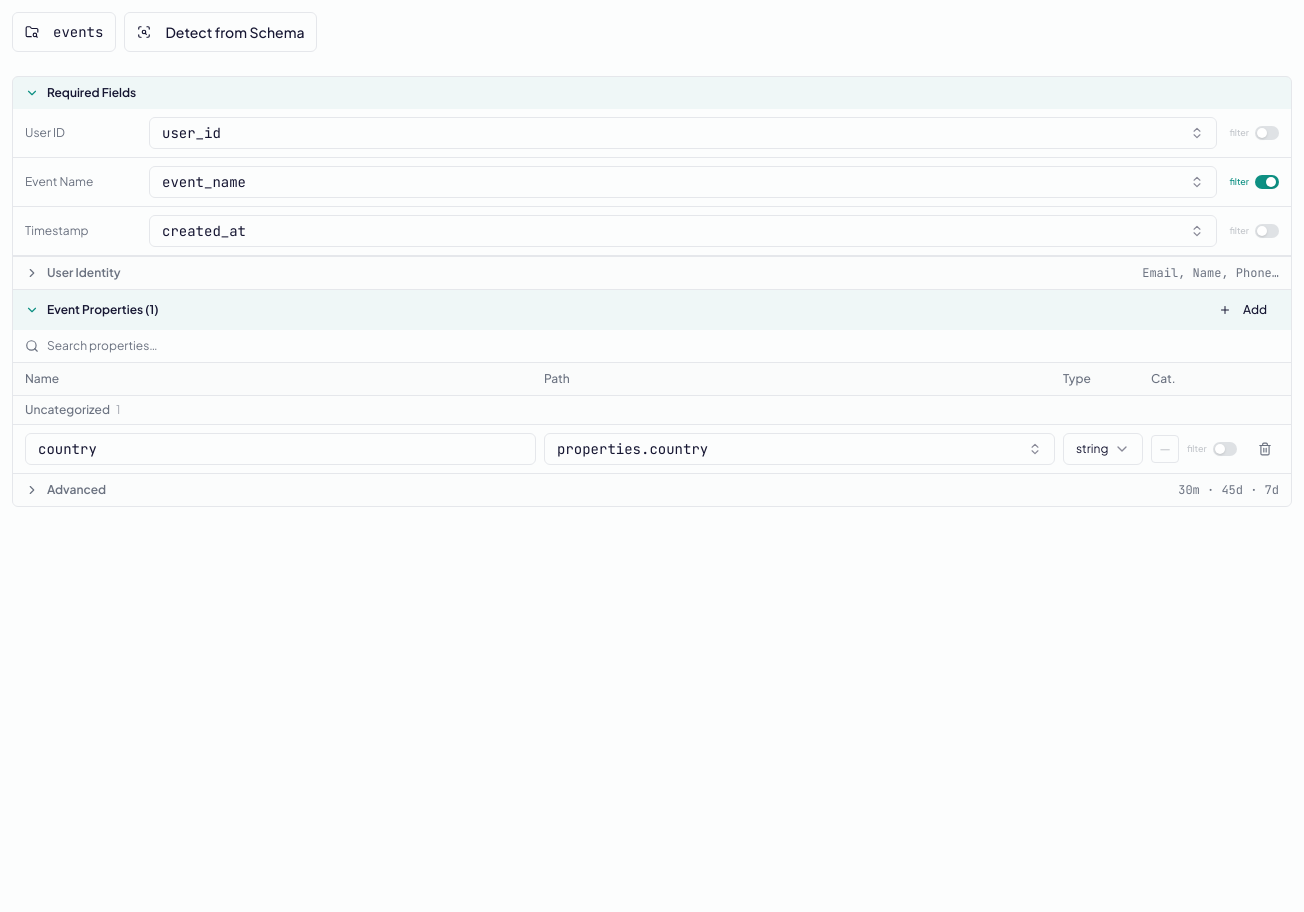
Test: SchemaConfigTab — User Identity section › shows all five optional field labels when identity section is expanded
Click the button "User Identity Email, Name, Phone…": (84, 272) [13,257,1291,289]
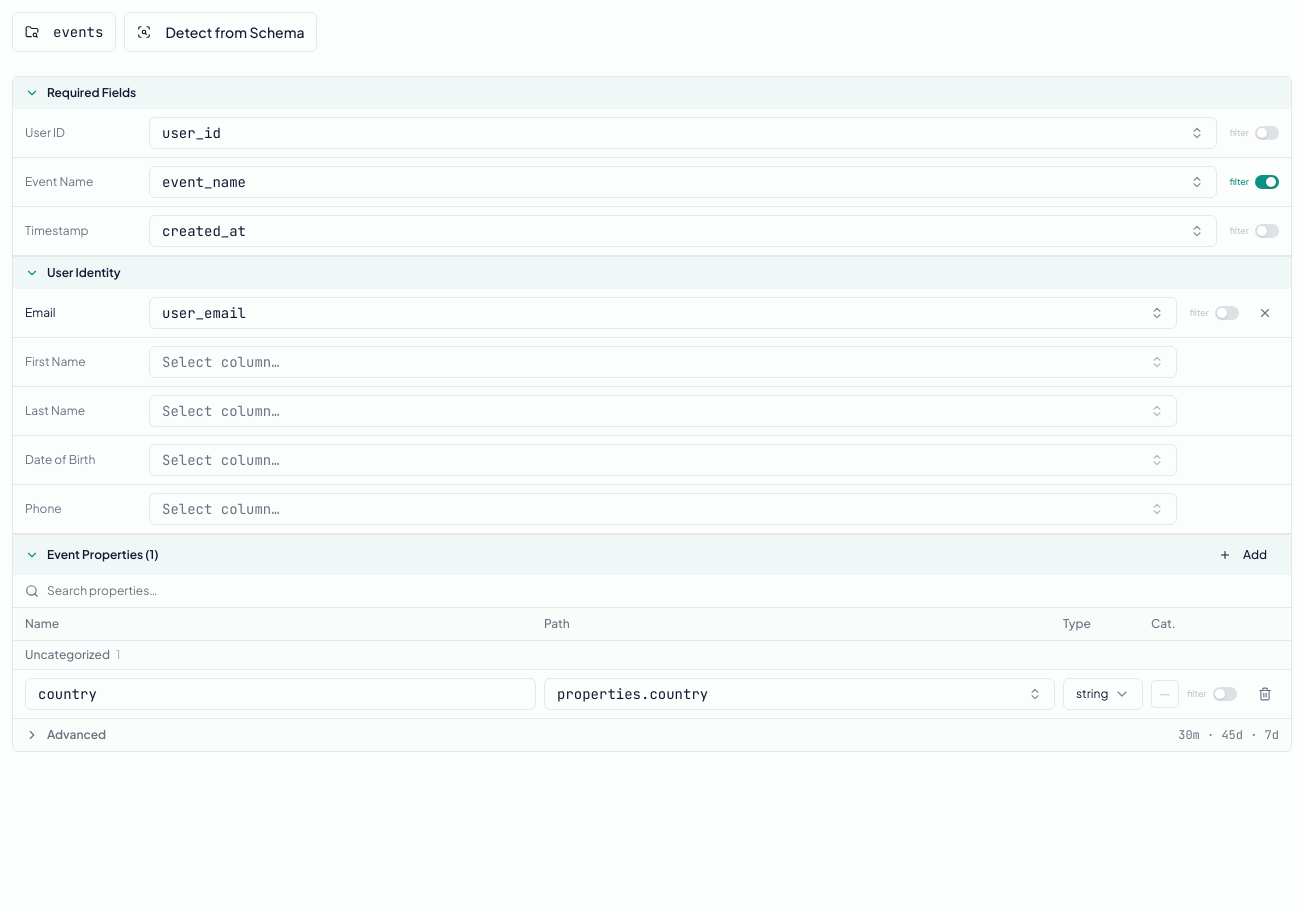
Check: the text "Email" is shown, box [25,305,56,320]
Check: the text "First Name" is shown, box [25,354,86,369]
Check: the text "Last Name" is shown, box [25,403,85,418]
